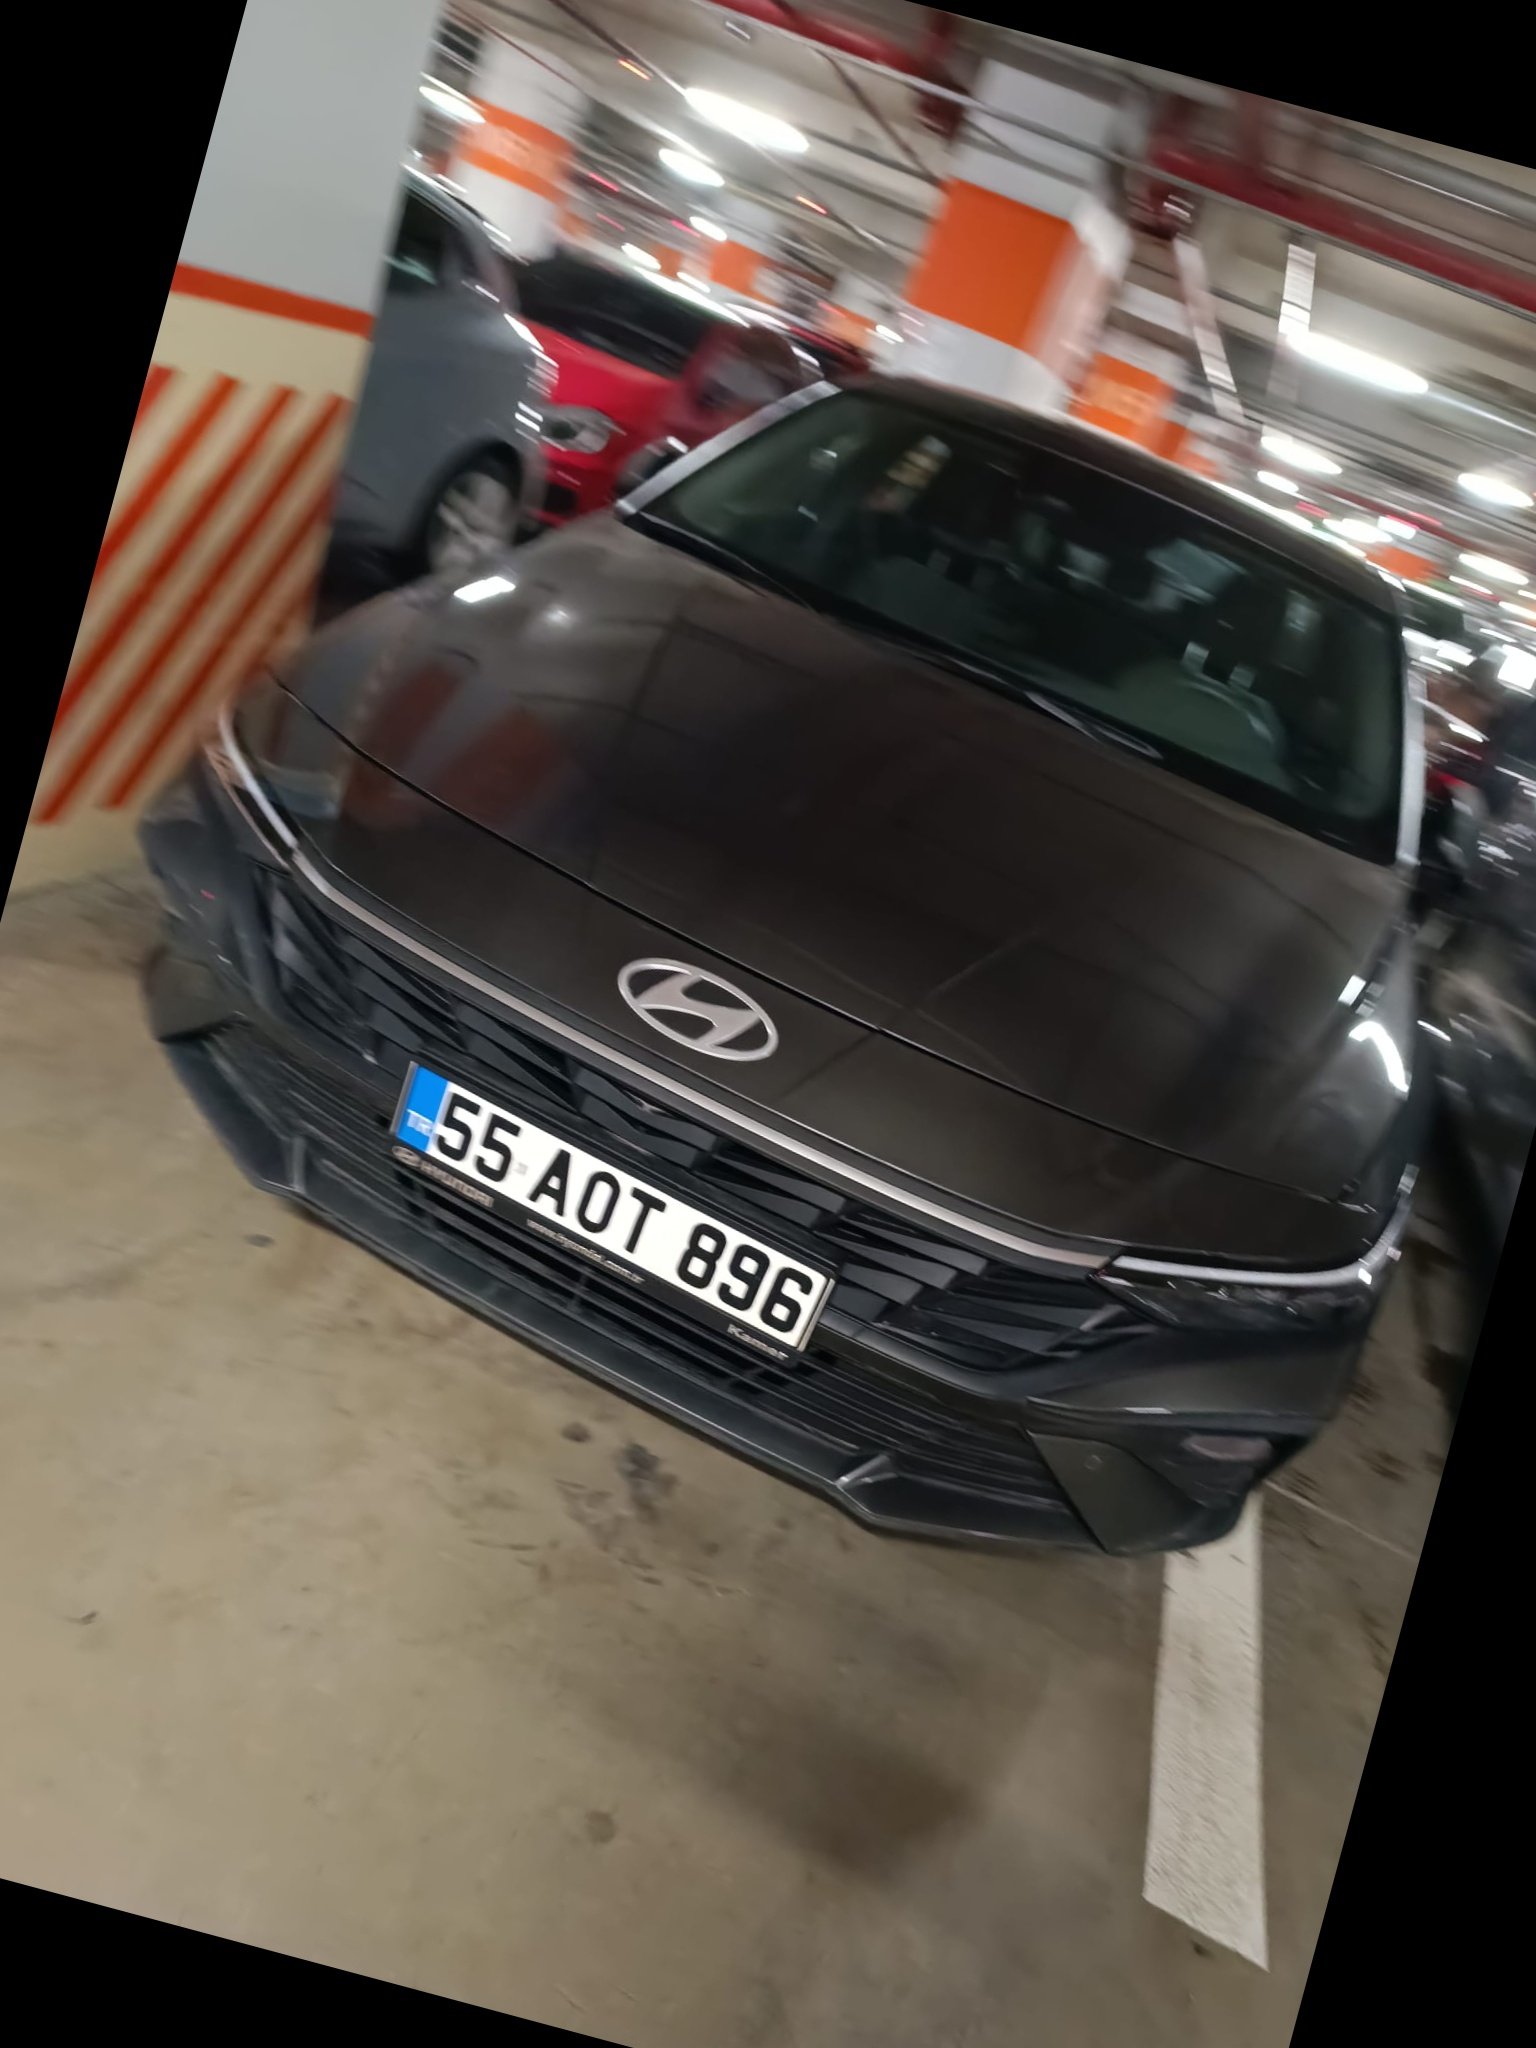plaka: (435, 1084, 820, 1348)
